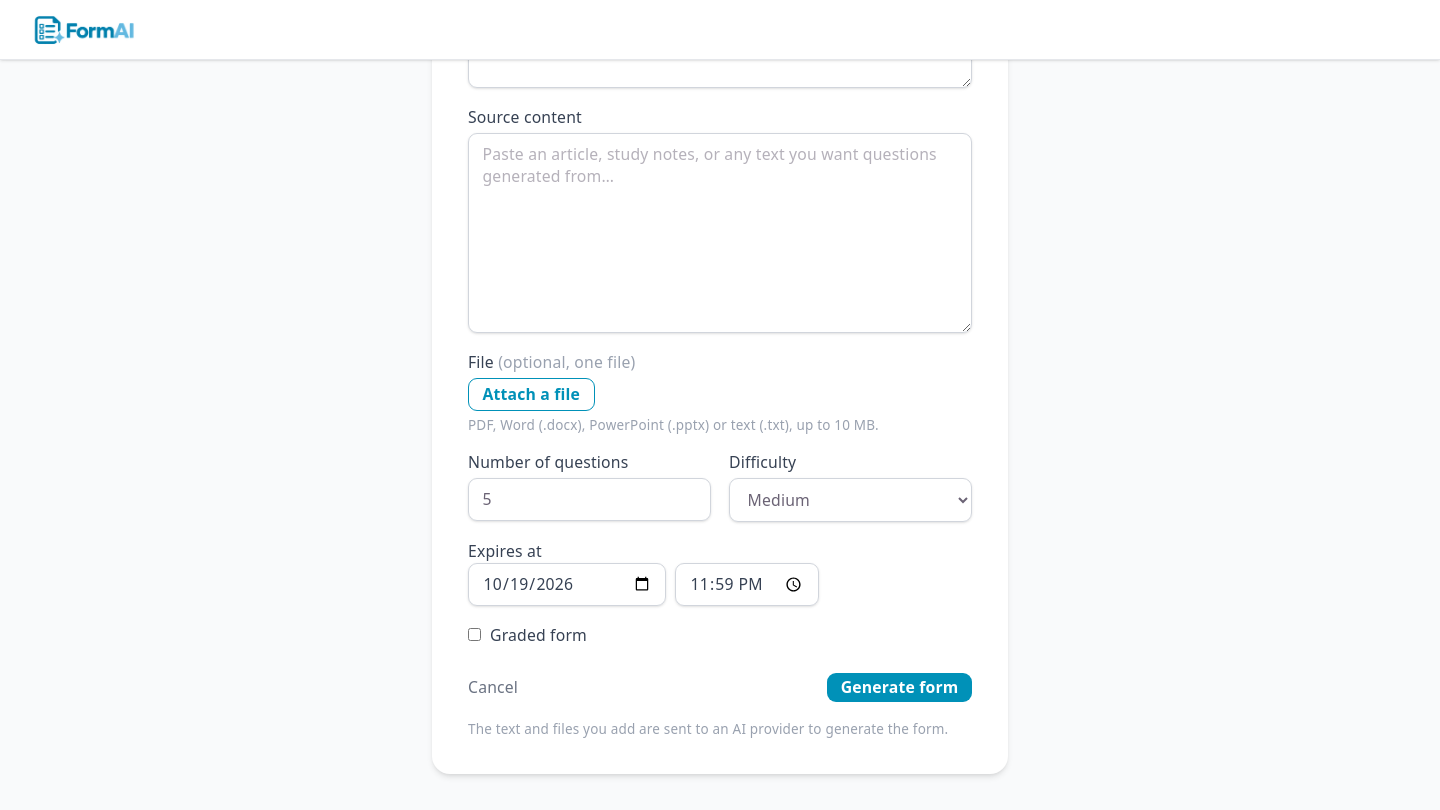
Scenario: CreateFormPage › hides the score checkbox while Graded form is unticked
(page scrolled)
Expected: the checkbox labelled "Show score after submit" is not shown
Click the checkbox labelled "Graded form": point(474, 635) [468, 628, 481, 641]
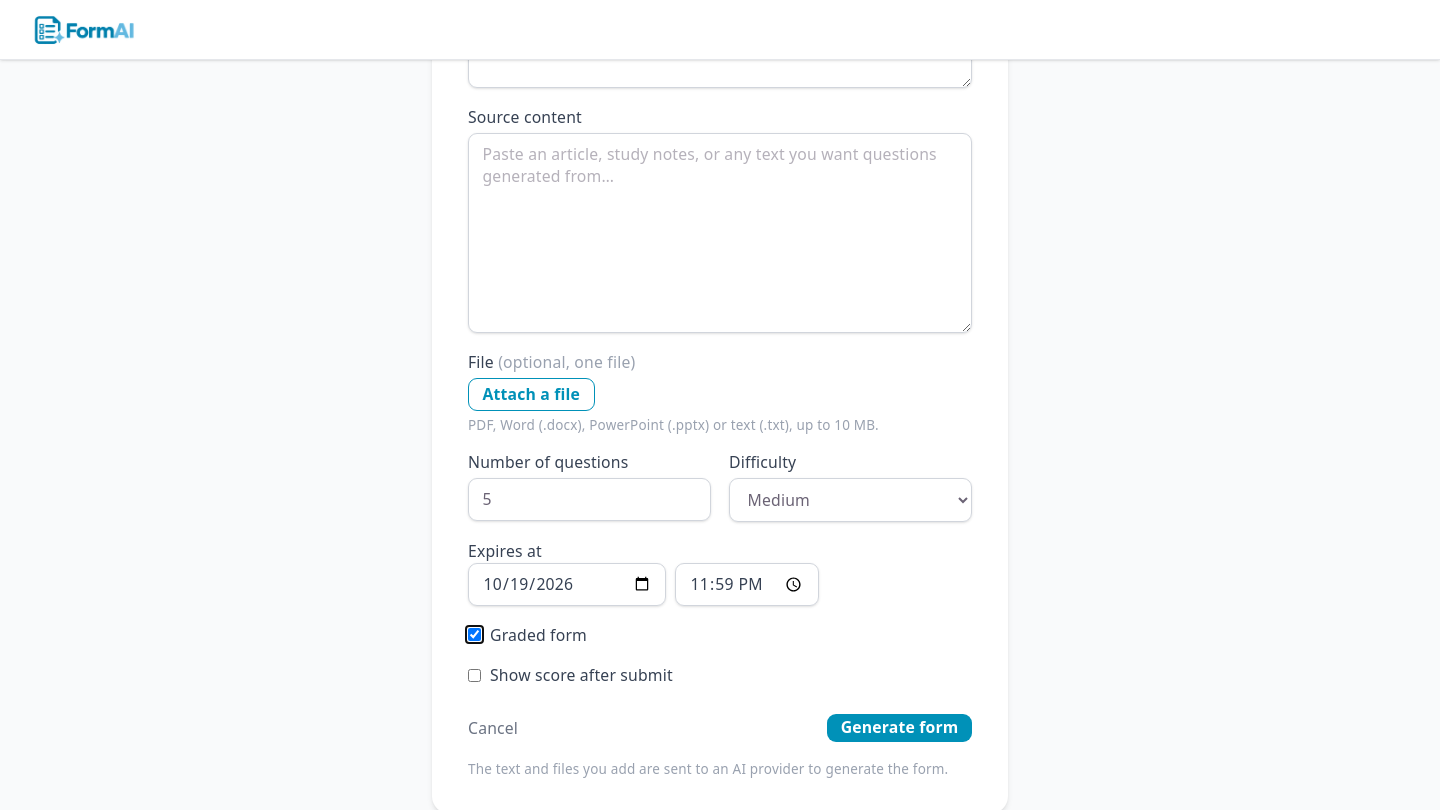
Result: the checkbox labelled "Show score after submit" is shown at [468, 669, 481, 682]
Click the checkbox labelled "Graded form": point(474, 635) [468, 628, 481, 641]
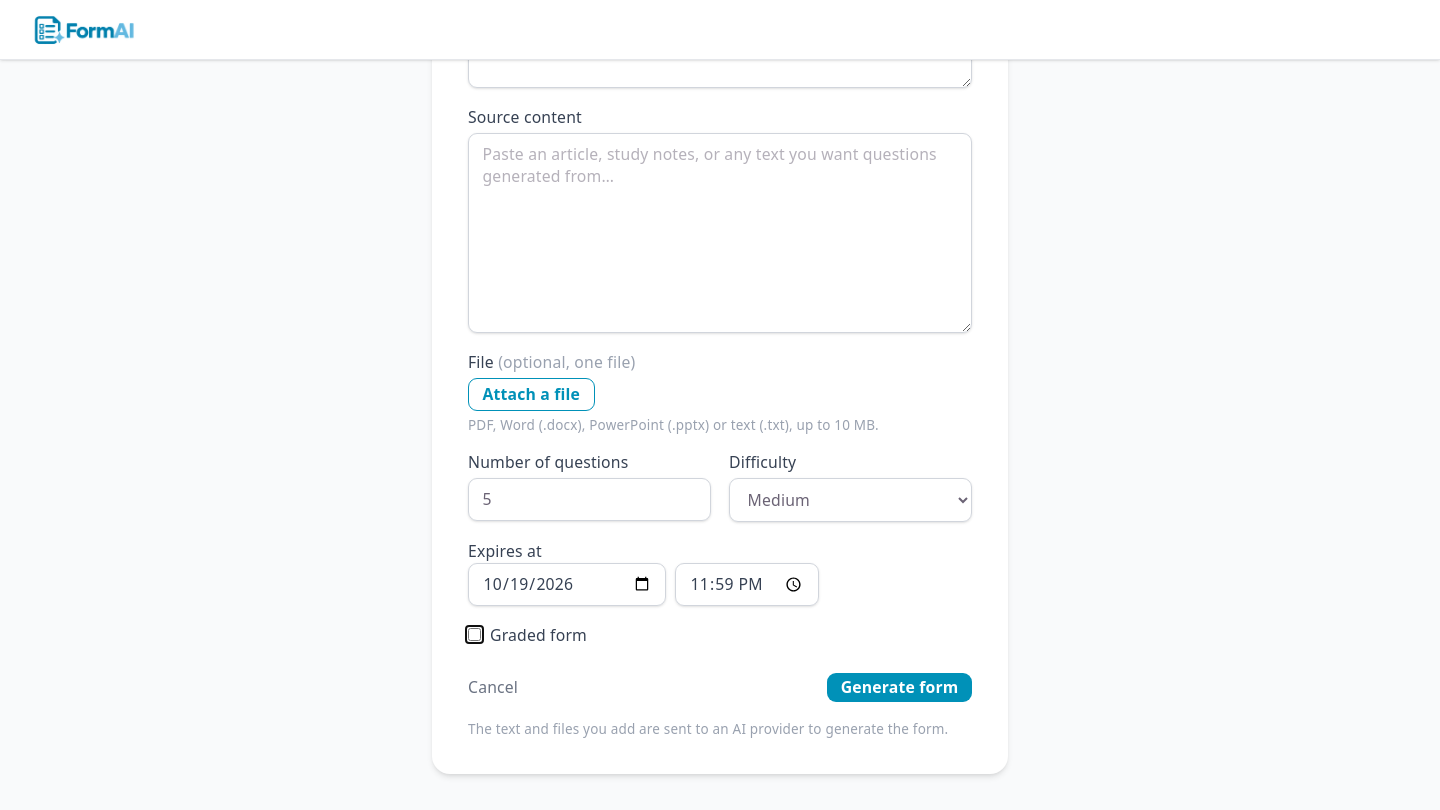
Result: the label "Show score after submit" is gone
